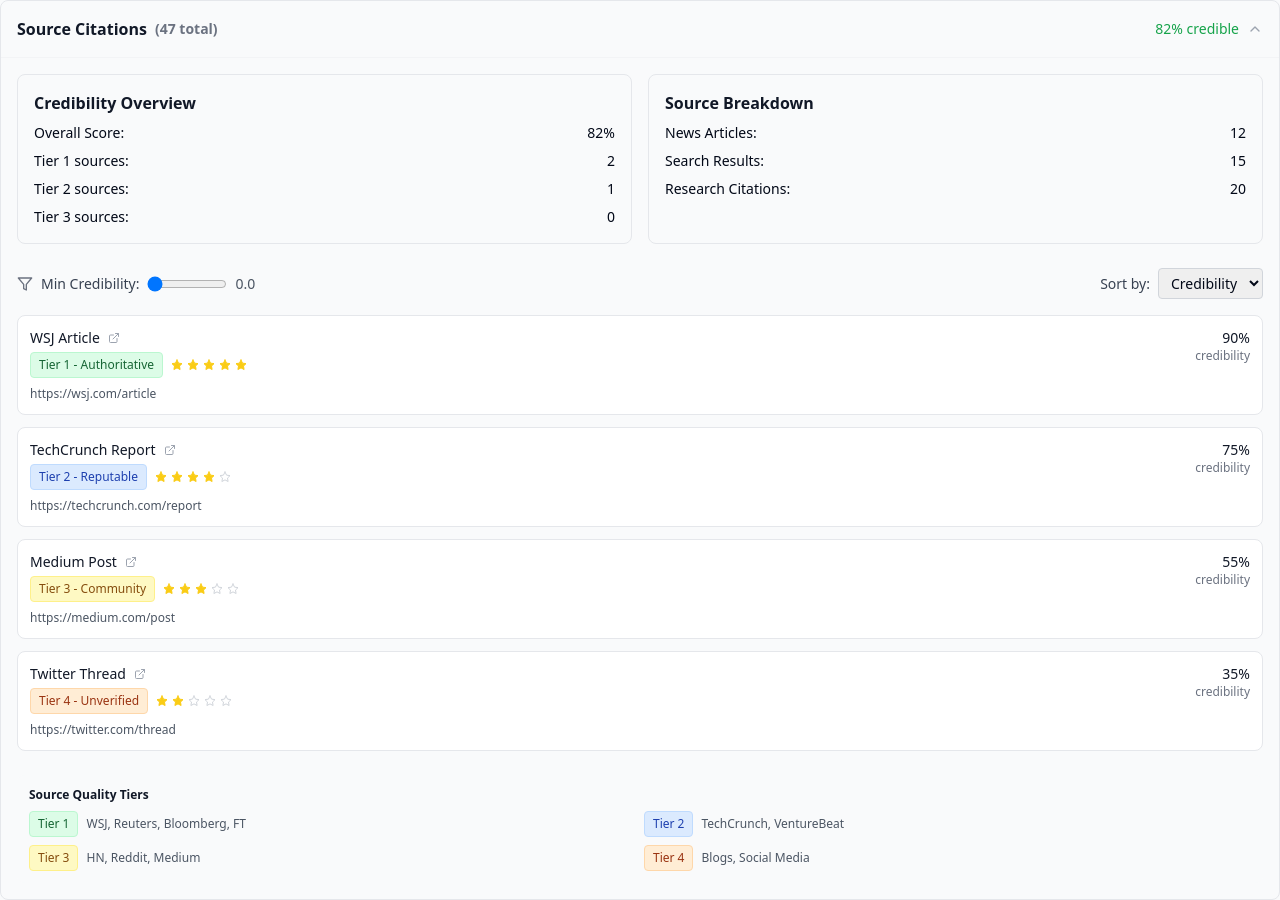
Test: SourceCitations Component › shows filtered empty state
The image size is (1280, 900).
Set the slider to "1.0" at coordinates (220, 284), box [148,276,228,292]
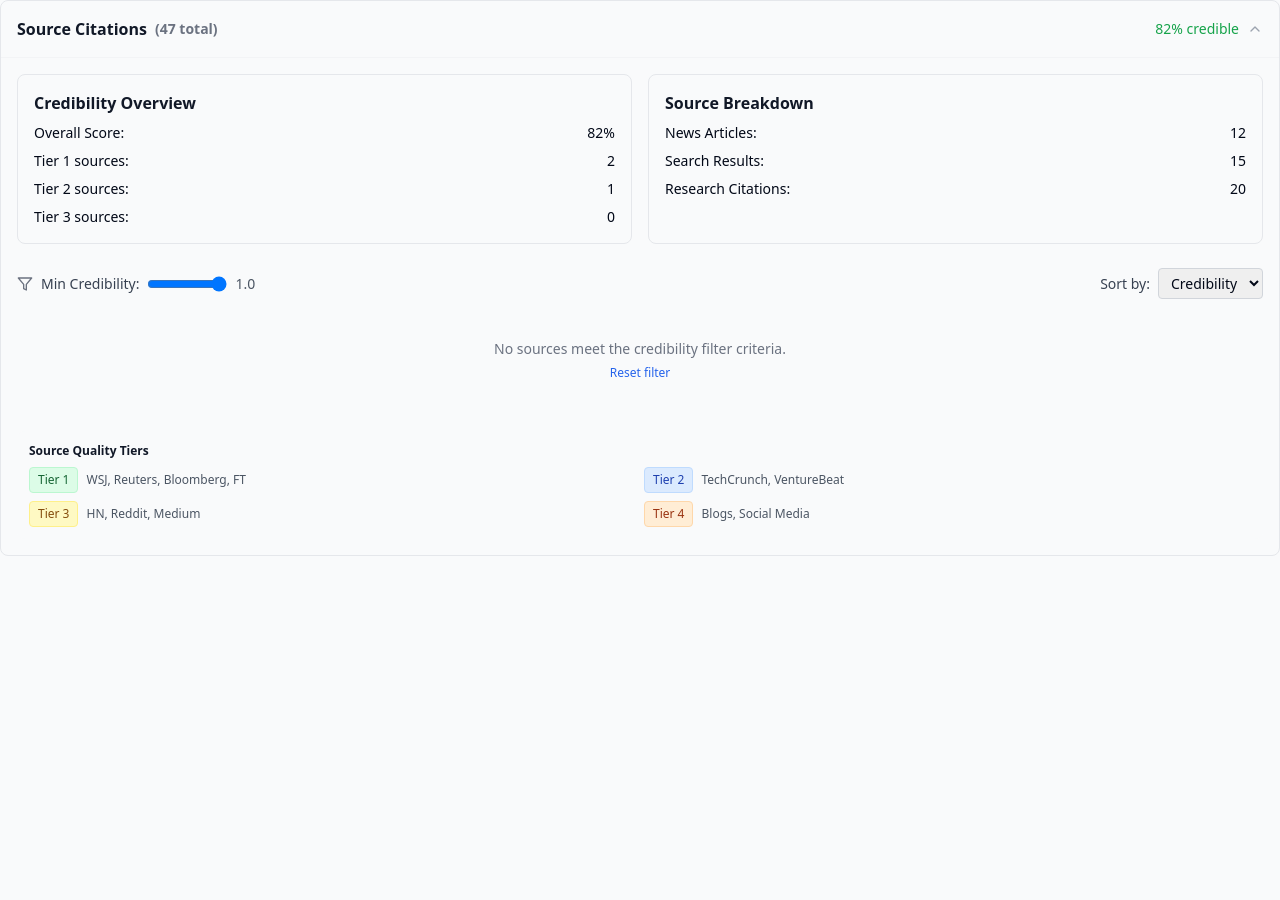
Check: the text "No sources meet the credibility filter criteria." is shown, box [494,339,786,358]
Check: the button "Reset filter" is shown, box [610,365,670,381]
